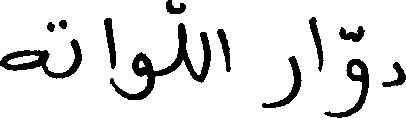X: (328, 21, 368, 117), (115, 46, 151, 104), (265, 51, 299, 112), (0, 45, 43, 75), (310, 12, 321, 76), (386, 57, 405, 91), (105, 13, 113, 91), (219, 24, 228, 76), (179, 0, 185, 70), (201, 27, 208, 87), (71, 34, 80, 79)
